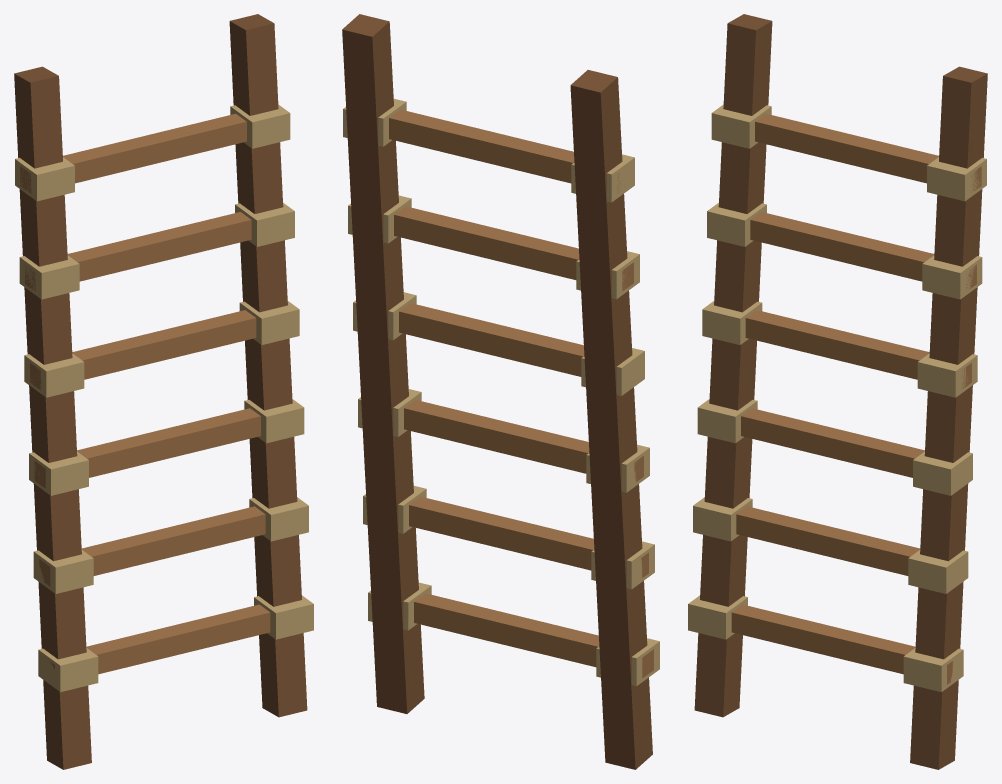
The model's file is kit_ladder_wood.glb.
3 renders of one model, left to right at view 1: azimuth 30°, elevation 25°; view 2: azimuth 150°, elevation 25°; view 3: azimuth 330°, elevation 25°, orthographic. The views are drawn at different scales.
Parts seen in each view (by area): view 1: kit_ladder_wood; view 2: kit_ladder_wood; view 3: kit_ladder_wood.
Part boxes in pixels (bbox=[...]): kit_ladder_wood: bbox=[14, 14, 313, 769]; kit_ladder_wood: bbox=[342, 14, 659, 769]; kit_ladder_wood: bbox=[688, 14, 987, 769].
Size of the model in its own units: 0.4 by 1 by 0.1396.
Materials: 1 (1 with a texture image).
